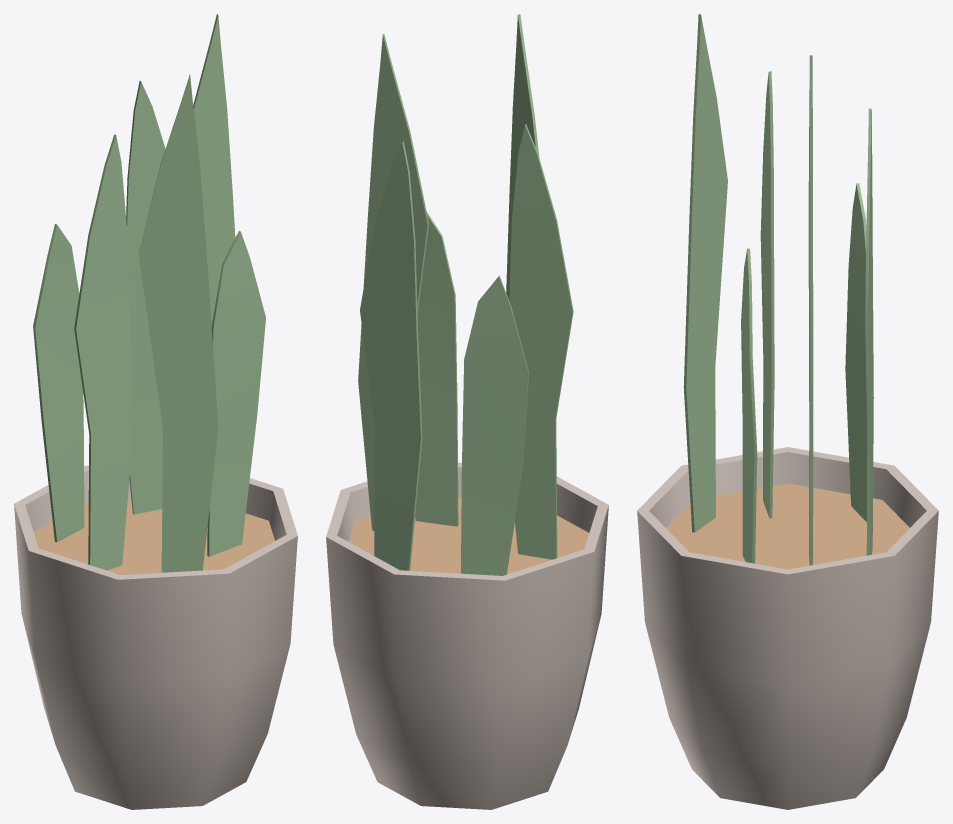
Rendered from plant-snake.glb.
3 renders of one model, left to right at view 1: azimuth 30°, elevation 25°; view 2: azimuth 150°, elevation 25°; view 3: azimuth 270°, elevation 25°, orthographic. The views are drawn at different scales.
Visible parts, largest first — view 1: Houseplant_4; view 2: Houseplant_4; view 3: Houseplant_4.
Part boxes in pixels (bbox=[...]): Houseplant_4: bbox=[14, 14, 297, 809]; Houseplant_4: bbox=[326, 14, 608, 809]; Houseplant_4: bbox=[637, 14, 938, 809].
Bounding box in the file's own units: 0.3382 × 0.9284 × 0.3382.
